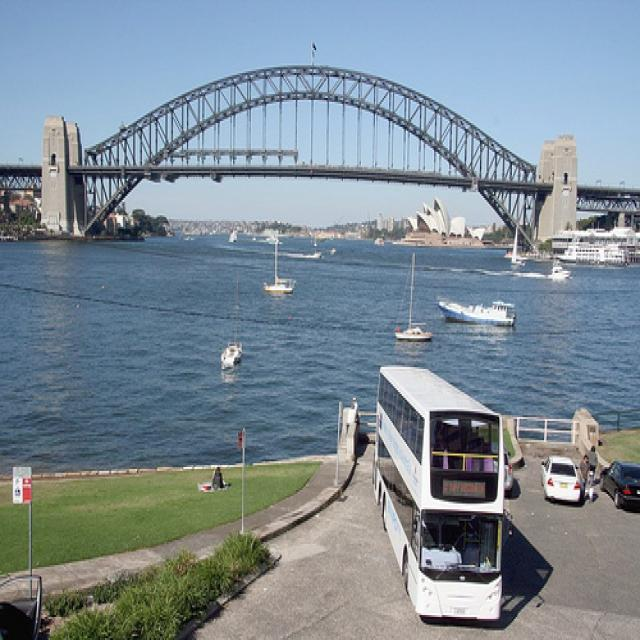Vehicle: (372, 366, 502, 622), (599, 460, 639, 508), (541, 455, 580, 502), (492, 443, 513, 490)
